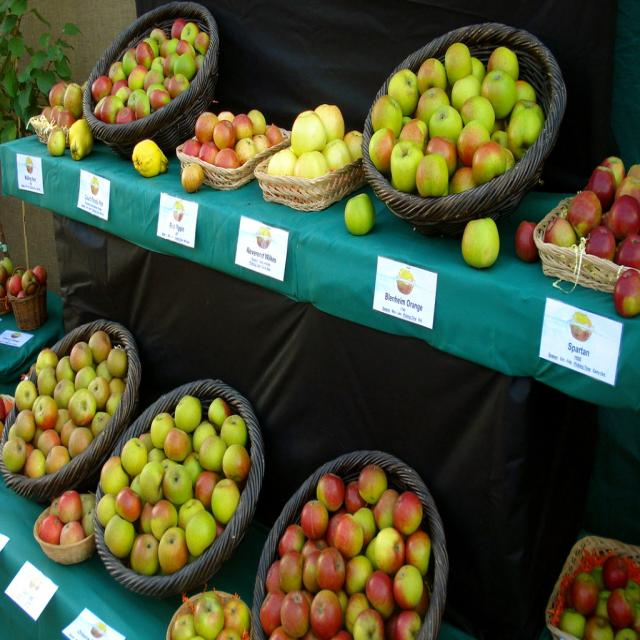Healty Apple: (257, 463, 432, 639), (97, 395, 251, 572), (381, 61, 531, 195), (0, 328, 127, 478), (92, 17, 208, 121), (544, 154, 640, 268), (266, 100, 362, 180), (182, 108, 282, 184), (556, 558, 640, 639), (170, 591, 251, 639), (41, 79, 88, 157), (38, 490, 94, 545), (461, 216, 499, 268), (610, 270, 640, 317), (345, 192, 375, 235), (514, 220, 537, 263), (570, 312, 594, 344), (182, 163, 204, 194), (256, 225, 272, 250), (397, 268, 413, 293), (22, 272, 38, 294), (170, 200, 184, 222), (34, 267, 48, 288), (0, 256, 13, 274), (7, 278, 20, 296), (91, 619, 104, 635), (0, 263, 8, 285), (26, 157, 34, 175), (90, 176, 98, 193), (0, 397, 6, 419), (16, 287, 26, 300), (0, 422, 6, 442), (5, 276, 12, 292), (0, 283, 5, 297), (22, 267, 32, 272), (15, 269, 22, 276)
